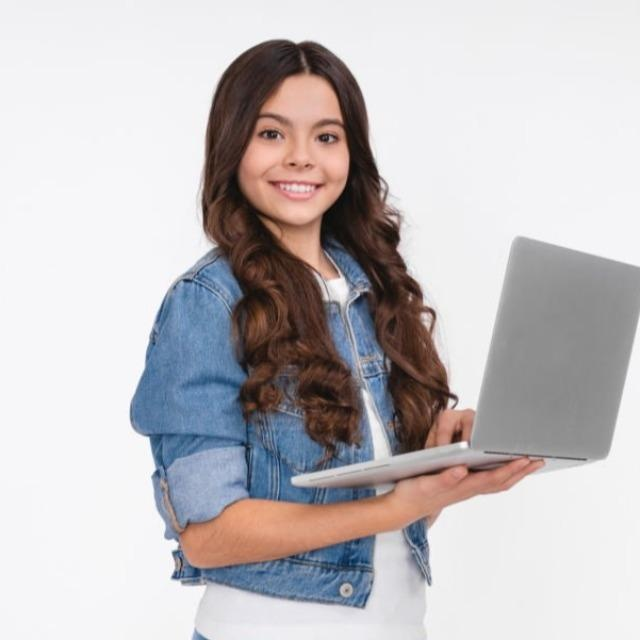Sin_Casco_Mascarrilla: (215, 38, 373, 224)
Sin_Chaleco: (147, 236, 442, 597)
